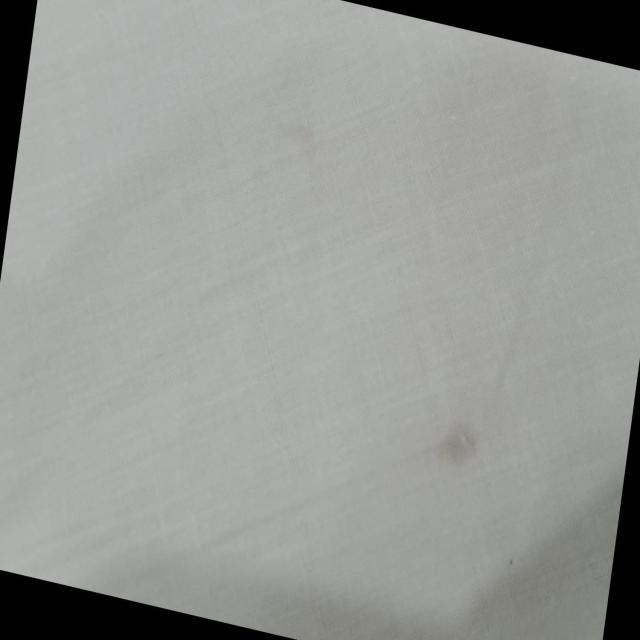stain: (422, 400, 493, 491)
